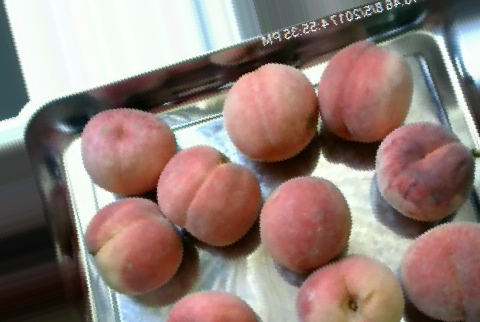Peach: (154, 146, 261, 246), (374, 120, 473, 222), (83, 197, 183, 296), (317, 42, 413, 141), (222, 63, 319, 160), (258, 174, 352, 273), (79, 106, 178, 197), (398, 220, 480, 322), (294, 253, 402, 321)
